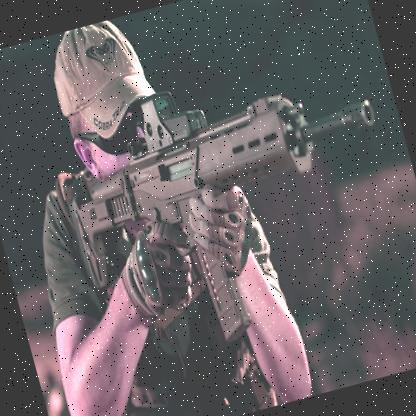rifle: (49, 67, 416, 357)
